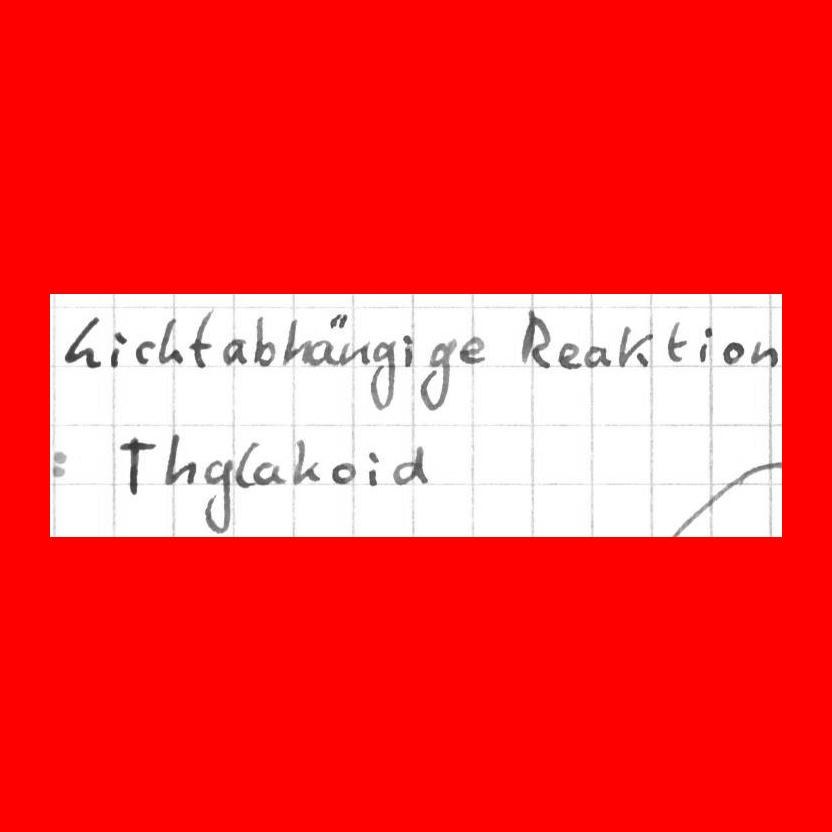Char: (416, 336, 458, 413), (115, 431, 158, 497), (198, 455, 234, 533), (368, 336, 398, 416), (516, 308, 554, 371), (61, 313, 103, 369), (308, 308, 346, 369), (159, 429, 196, 484), (614, 322, 655, 371), (389, 443, 431, 487), (249, 310, 280, 368), (186, 306, 214, 369), (290, 435, 322, 486), (157, 315, 185, 366), (282, 317, 310, 367), (663, 318, 691, 367), (454, 332, 492, 364), (237, 436, 257, 491), (251, 458, 287, 488), (338, 336, 370, 369), (749, 339, 780, 371), (694, 323, 717, 366), (219, 336, 249, 368), (105, 328, 130, 366), (583, 339, 613, 368), (365, 446, 384, 489), (721, 336, 745, 368), (556, 340, 582, 369), (399, 331, 418, 370), (132, 335, 156, 364), (330, 460, 357, 485)
